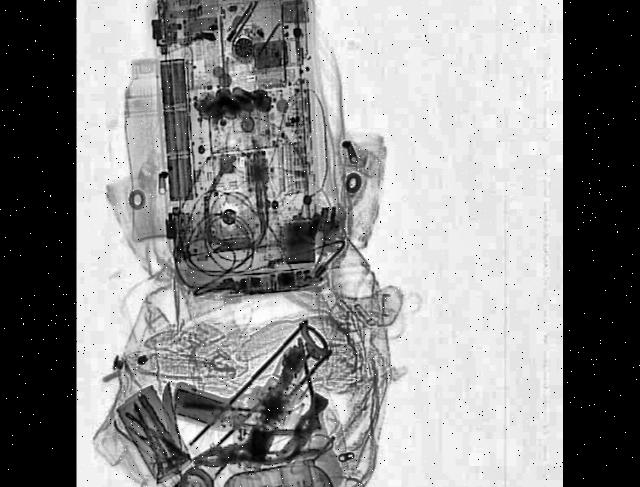Knife: (160, 378, 182, 454)
